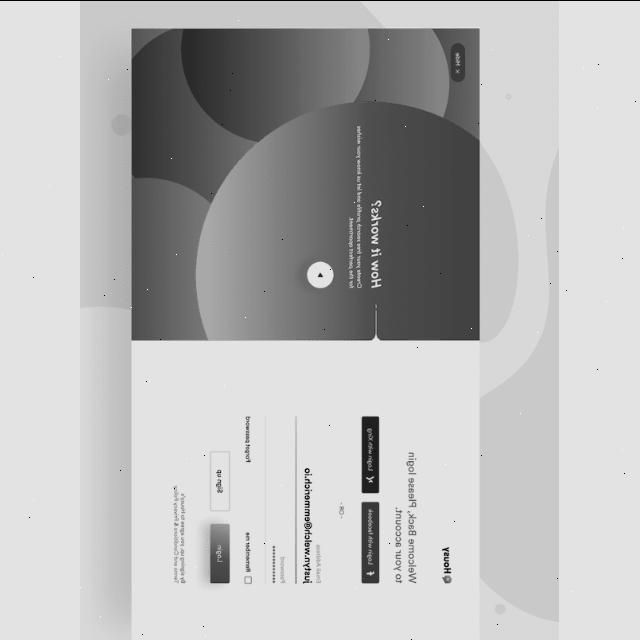QLabel: (392, 445, 420, 585), (348, 118, 364, 292), (172, 482, 188, 584), (369, 193, 385, 294), (244, 414, 253, 464), (368, 508, 374, 564), (245, 530, 252, 572), (368, 428, 374, 470), (216, 470, 224, 492), (216, 544, 224, 562), (339, 502, 345, 518), (456, 51, 462, 64)
VBtn: (361, 500, 381, 582), (361, 415, 381, 493), (210, 522, 232, 584), (210, 450, 232, 512), (451, 42, 467, 82)
VCard: (124, 22, 488, 640)
VCheckbox: (244, 574, 253, 584)
VIcon: (366, 474, 376, 482), (456, 68, 462, 74), (367, 570, 375, 574)
VImg: (305, 256, 337, 290), (440, 539, 456, 585)
VTextField: (296, 414, 326, 586), (264, 413, 290, 585)
